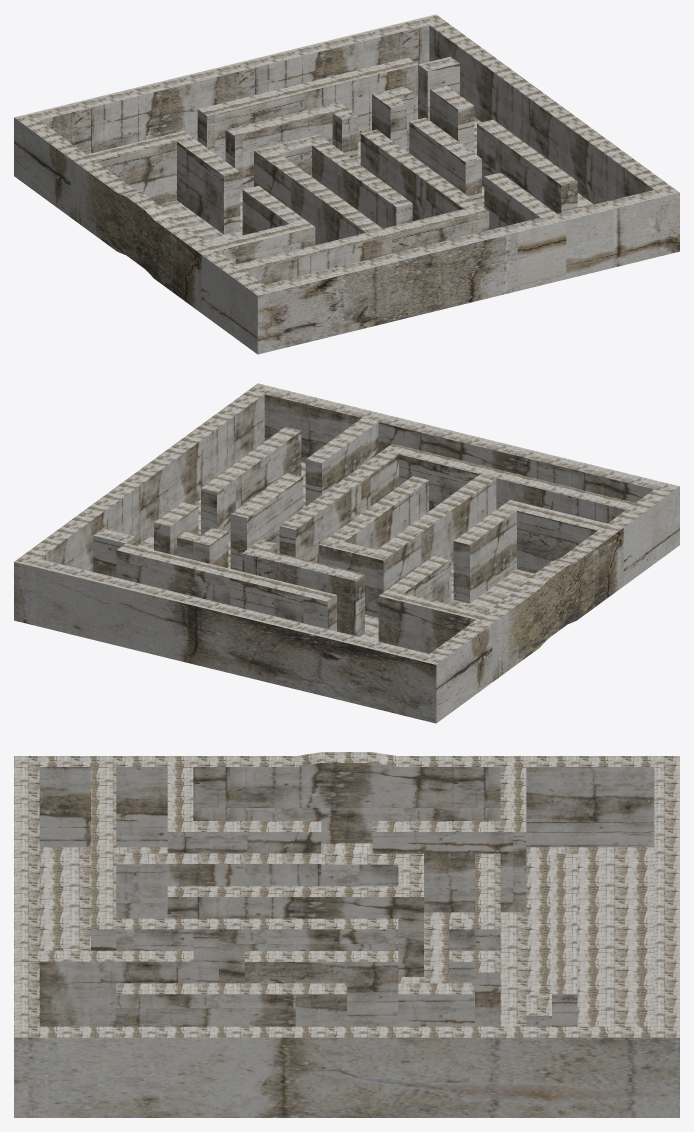
The model's file is MazeStart.fbx.
The picture shows the model from 3 angles, top to bottom: view 1: azimuth 30°, elevation 25°; view 2: azimuth 150°, elevation 25°; view 3: azimuth 270°, elevation 25°; orthographic projection. The views are drawn at different scales.
Parts seen in each view (by area): view 1: Plane; view 2: Plane; view 3: Plane.
Boxes of the visible parts, left/top/right/bottom form: Plane: left=14, top=14, right=679, bottom=354; Plane: left=14, top=383, right=679, bottom=723; Plane: left=14, top=752, right=679, bottom=1117.
Size of the model in its own units: 3000 by 419 by 3000.
